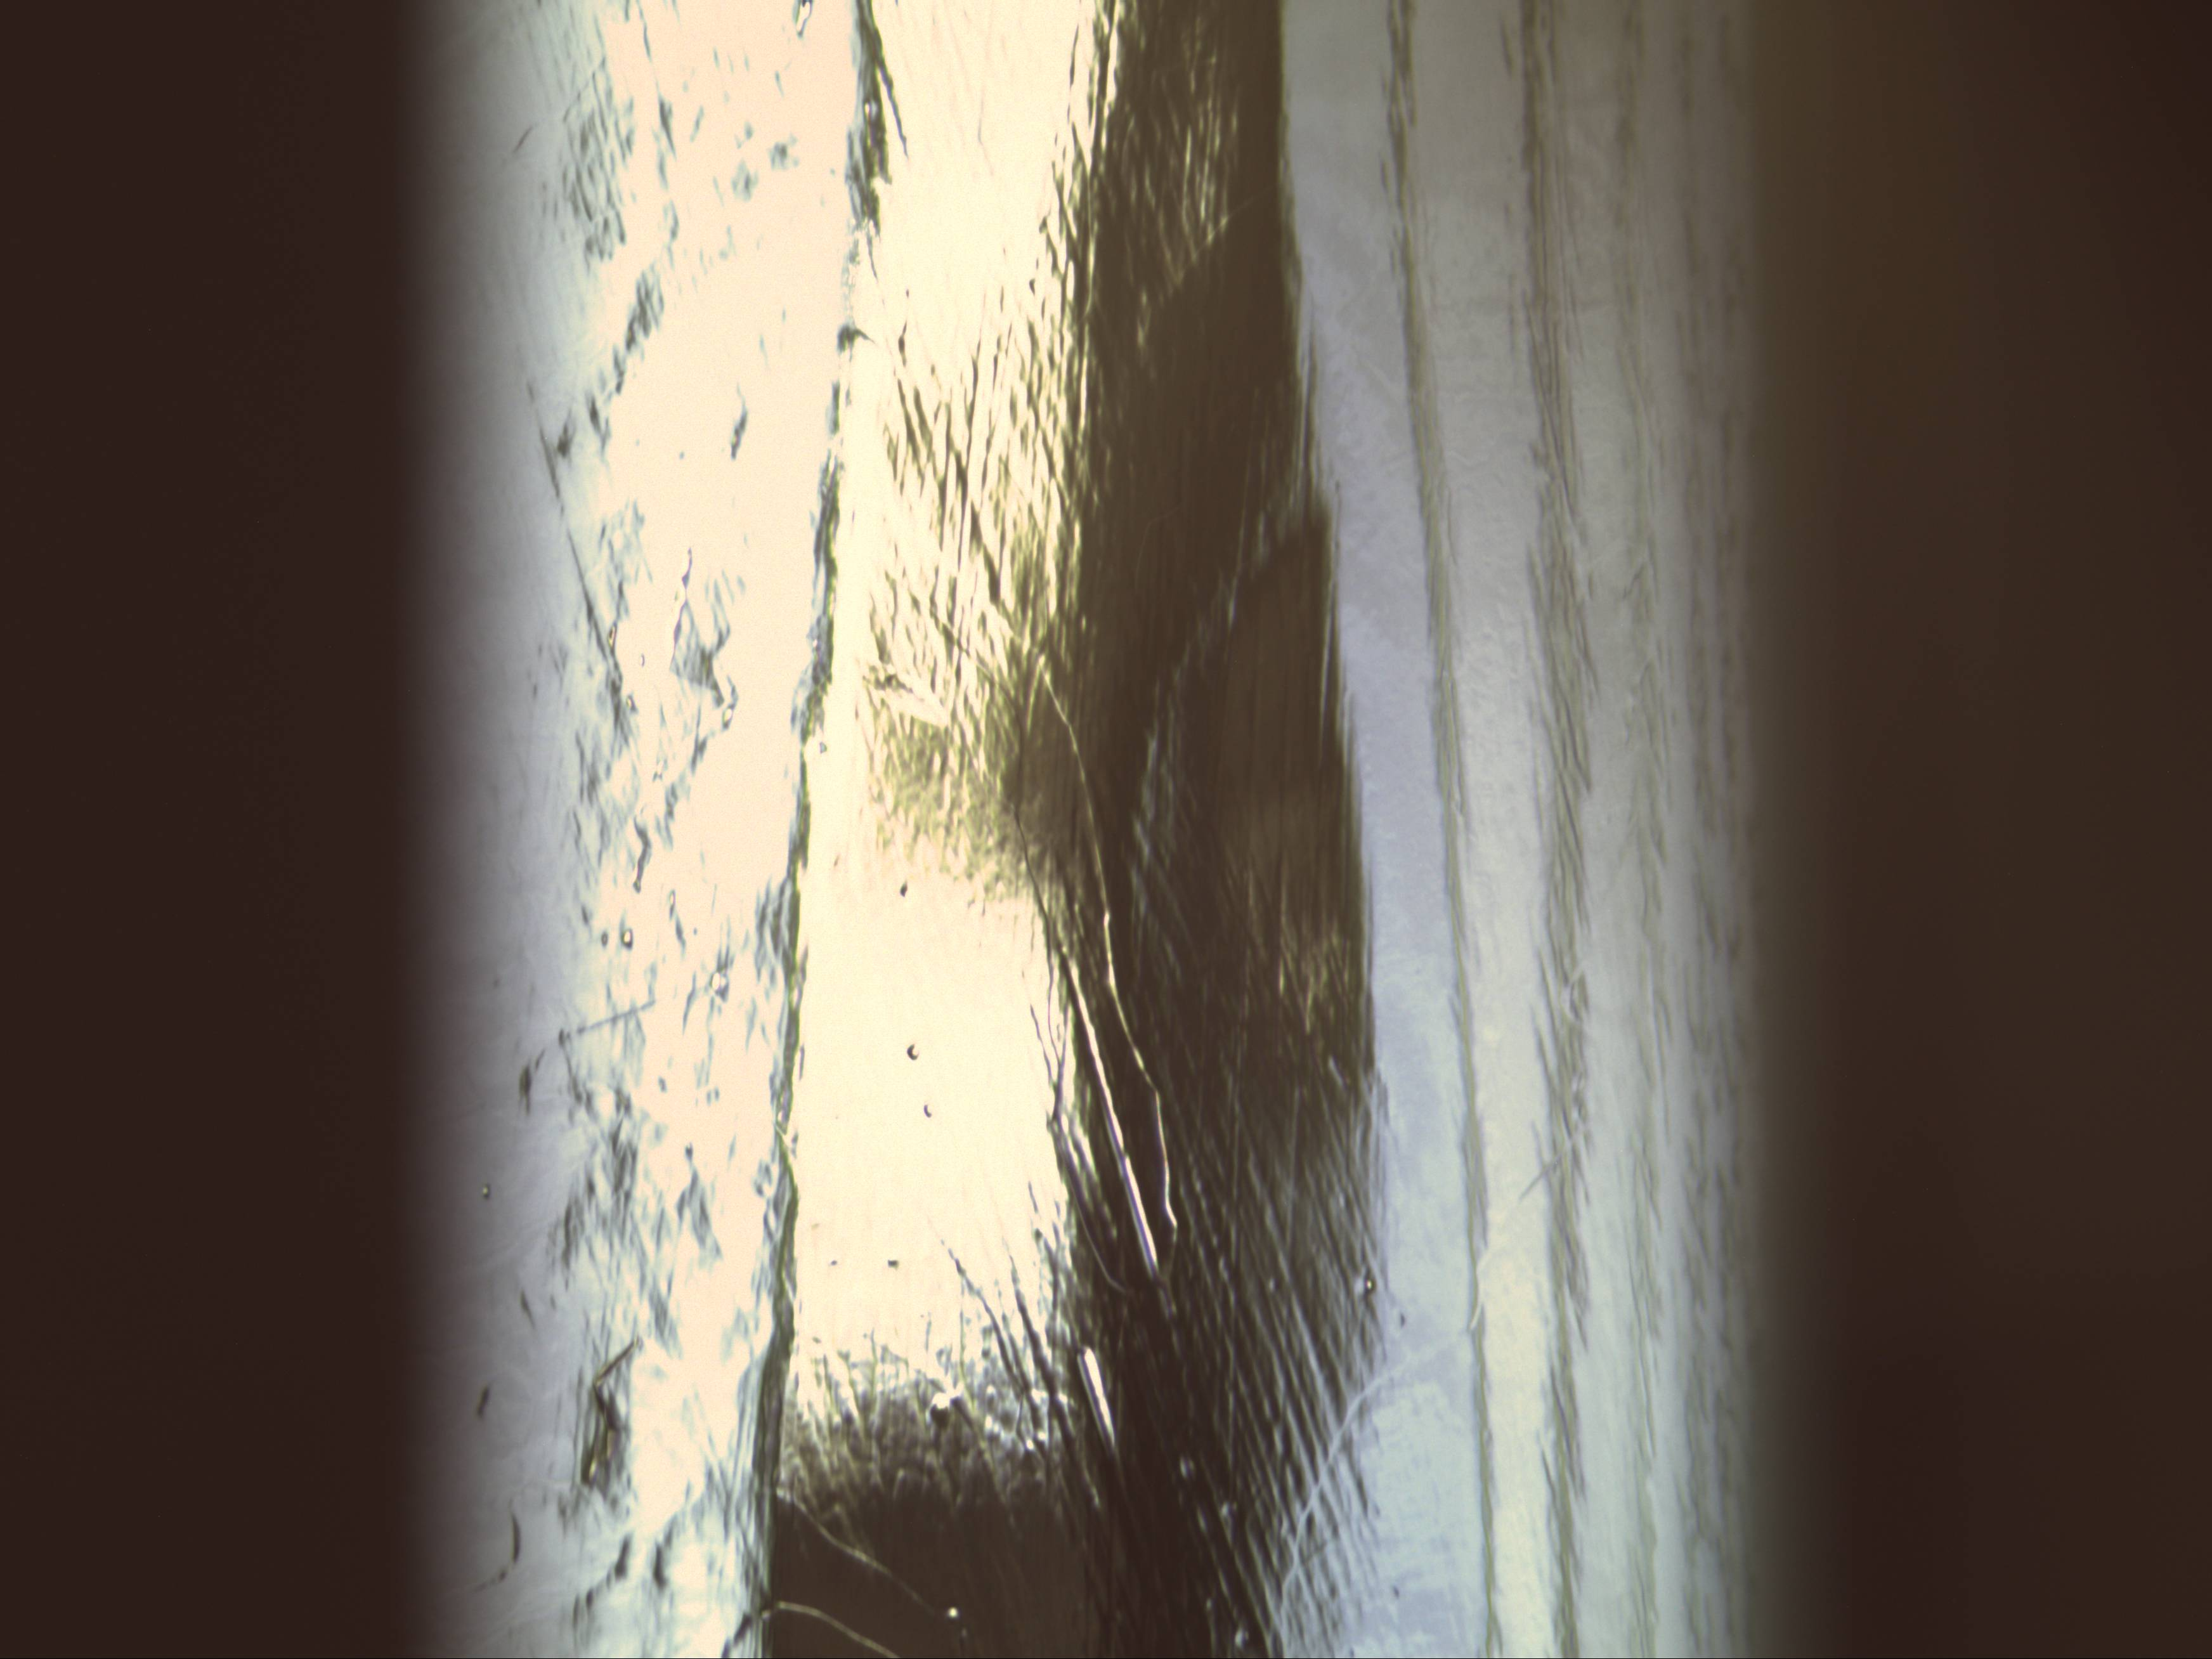defect: (1352, 1267, 1386, 1302), (935, 1595, 970, 1628), (899, 1032, 930, 1066)
